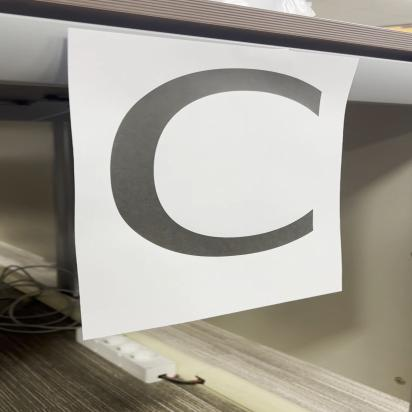seat: (77, 27, 347, 313)
